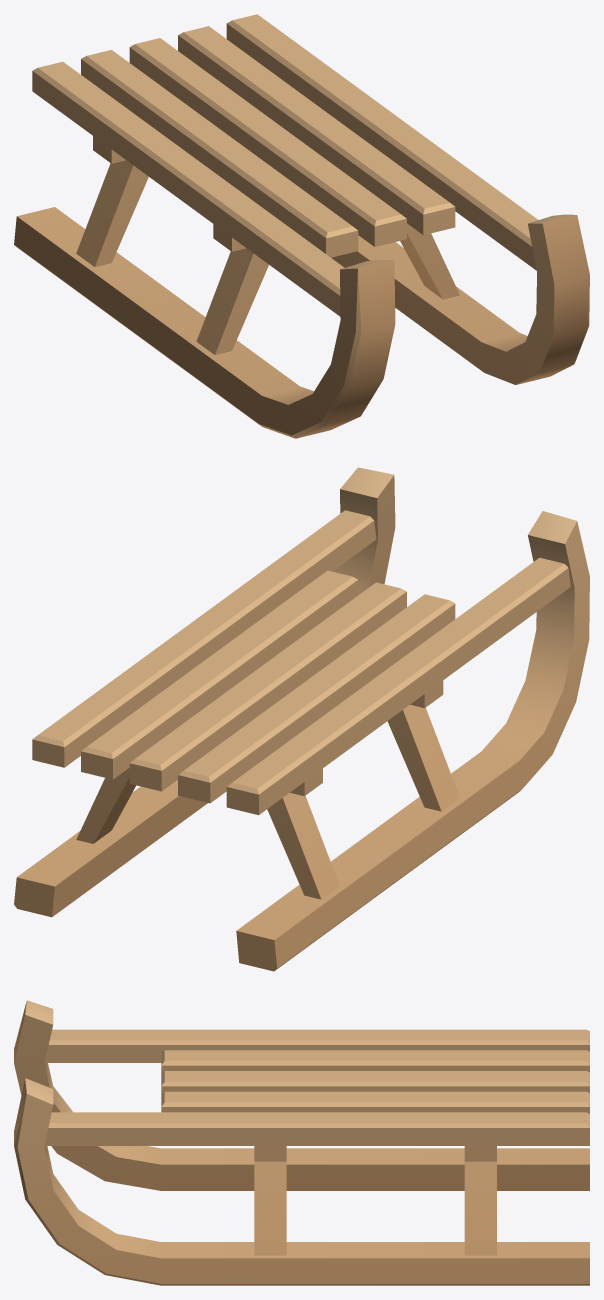
Rendered from sled.glb.
3 renders of one model, top to bottom at view 1: azimuth 30°, elevation 25°; view 2: azimuth 150°, elevation 25°; view 3: azimuth 270°, elevation 25°, orthographic. The views are drawn at different scales.
Visible parts, largest first — view 1: sled; view 2: sled; view 3: sled.
Boxes of the visible parts, x1=… form: sled: x1=14, y1=14, x2=589, y2=438; sled: x1=14, y1=467, x2=589, y2=971; sled: x1=14, y1=1000, x2=589, y2=1285.
Size of the model in its own units: 0.7584 by 0.581 by 1.64.
Materials: 1 (1 with a texture image).
